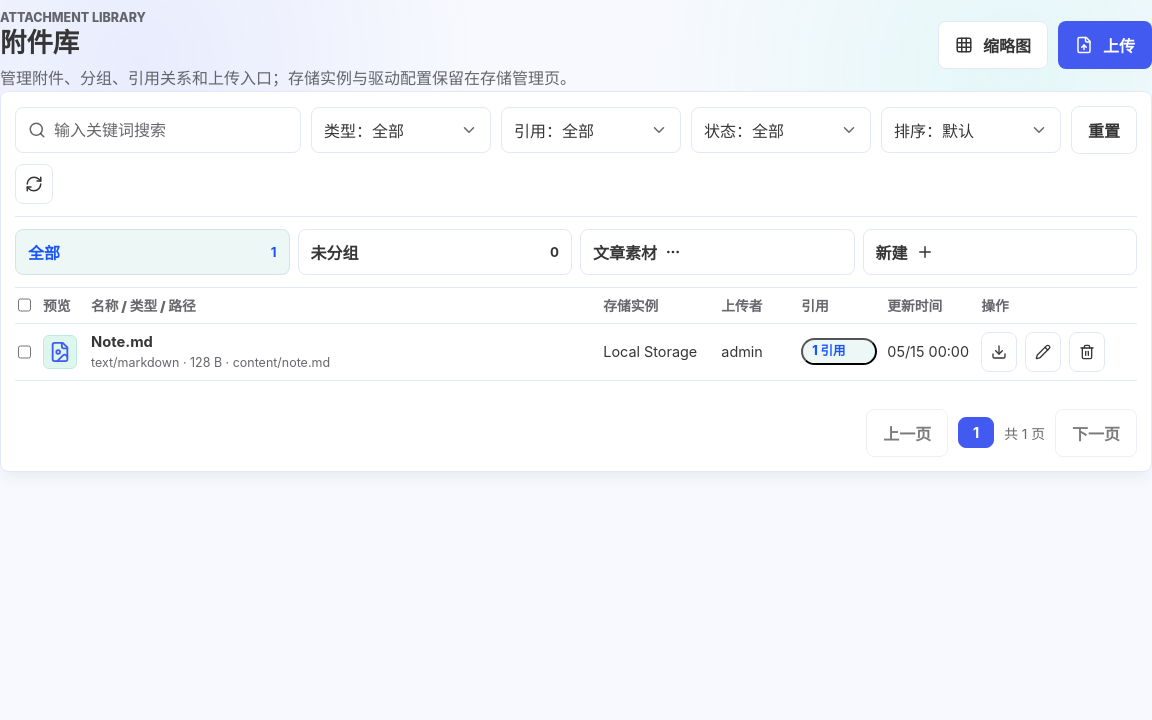
StudioAttachmentsPage › closes the category dialog after creating a category
Expected: the text "Note.md" is shown, [91,333,153,351]
Click the button "新建" at coordinates (892, 252), box [862,228,1137,274]
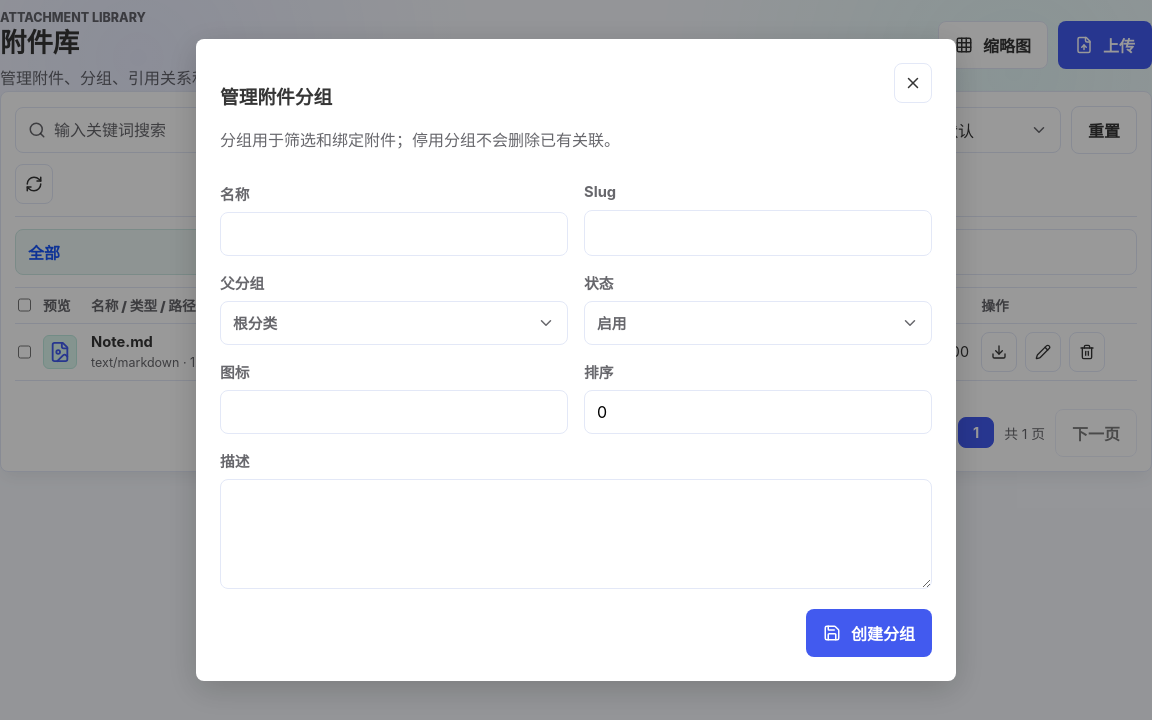
Type "图库" into the field named "分类名称" at coordinates (394, 234), box [220,212,568,256]
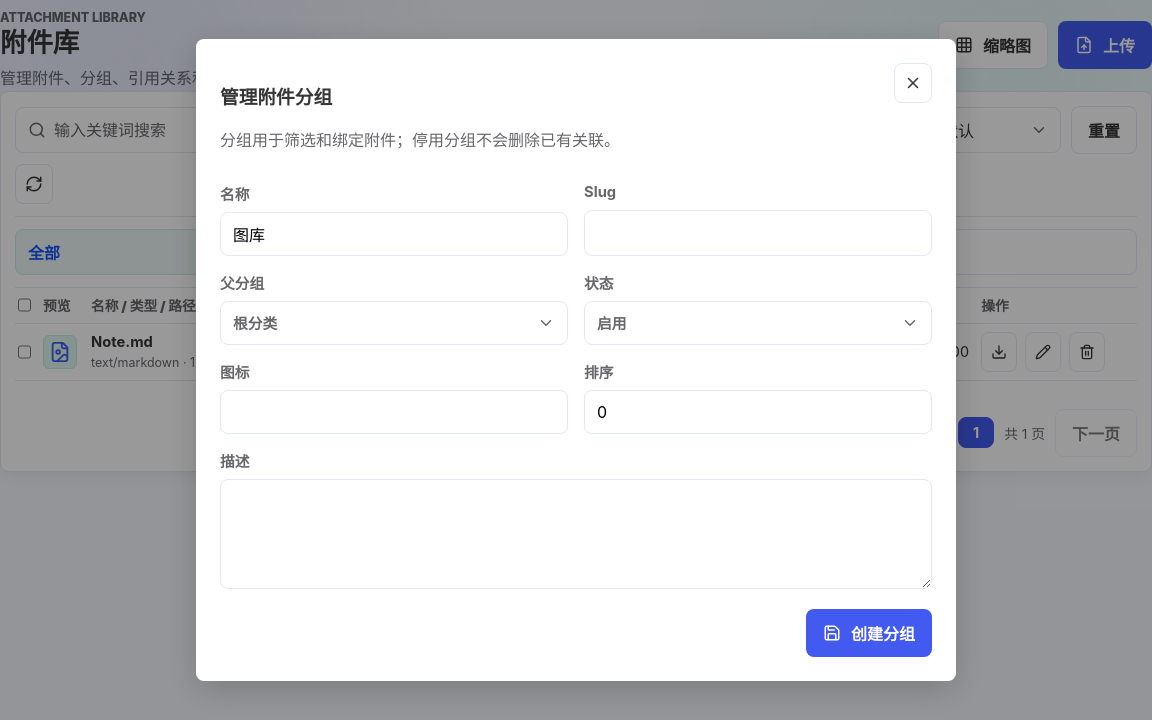
Type "gallery" into the field named "分类 slug" at coordinates (758, 233), box [584,210,932,256]
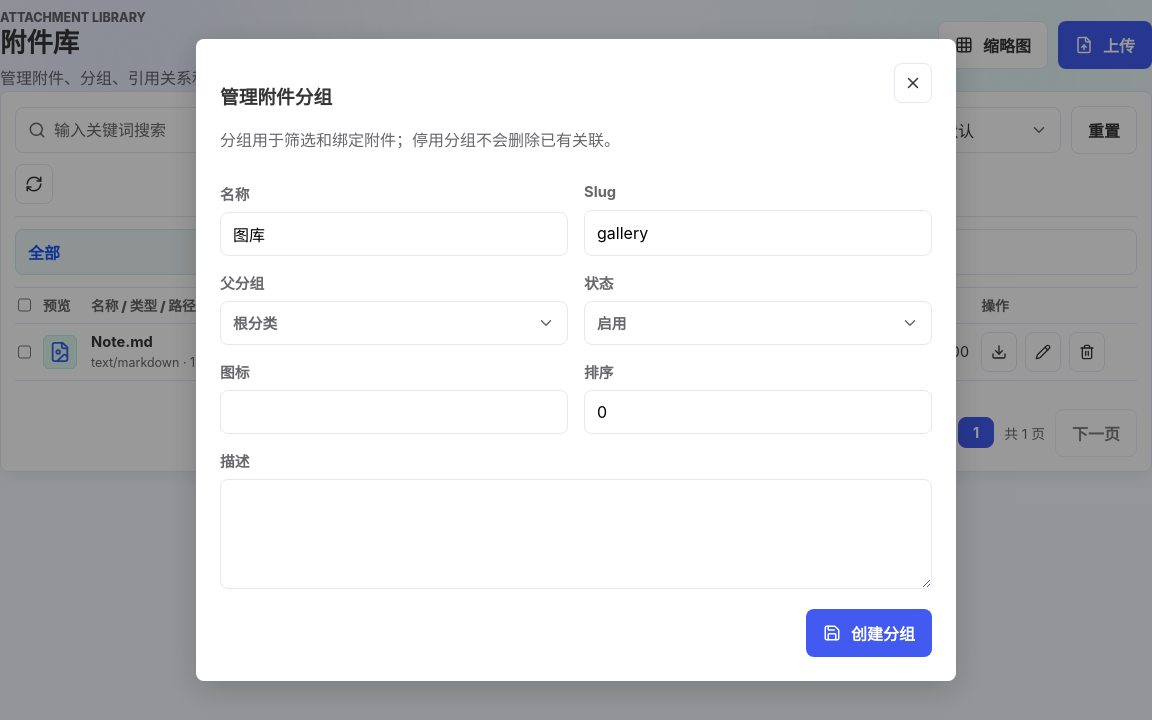
Click the button "创建分组" at coordinates (869, 633), box [806,609,932,657]
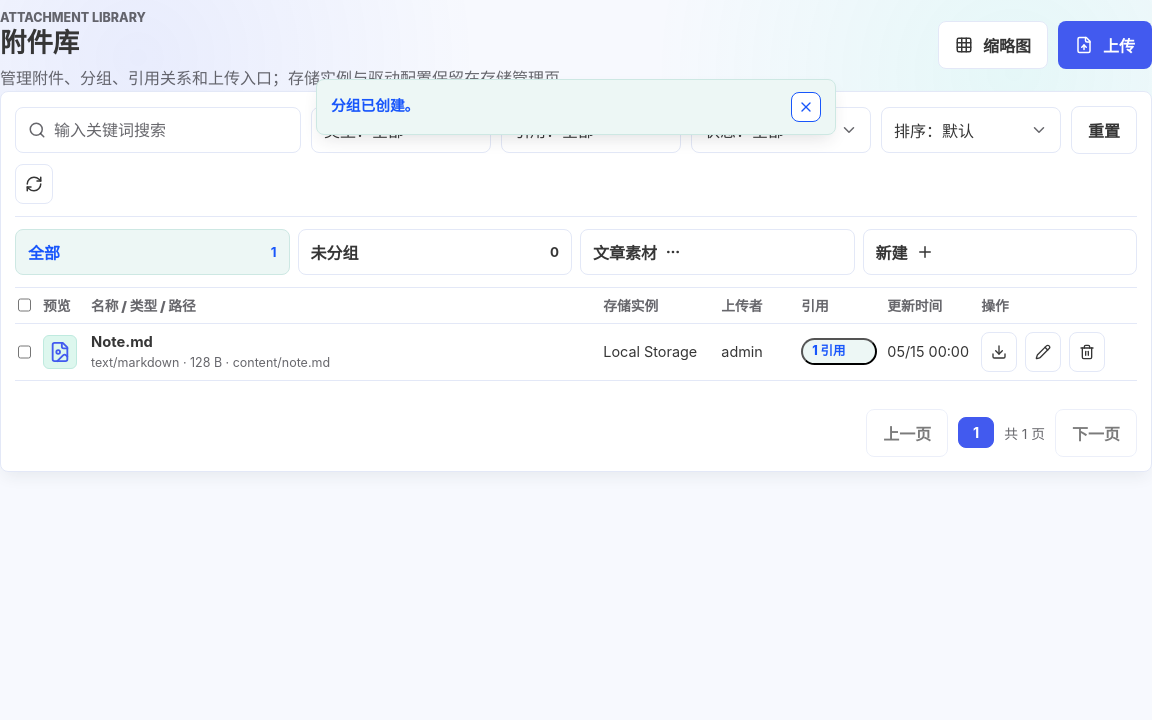
Expected: the button "创建分组" is gone
Expected: the text "分组已创建。" is shown, [331,96,419,118]
